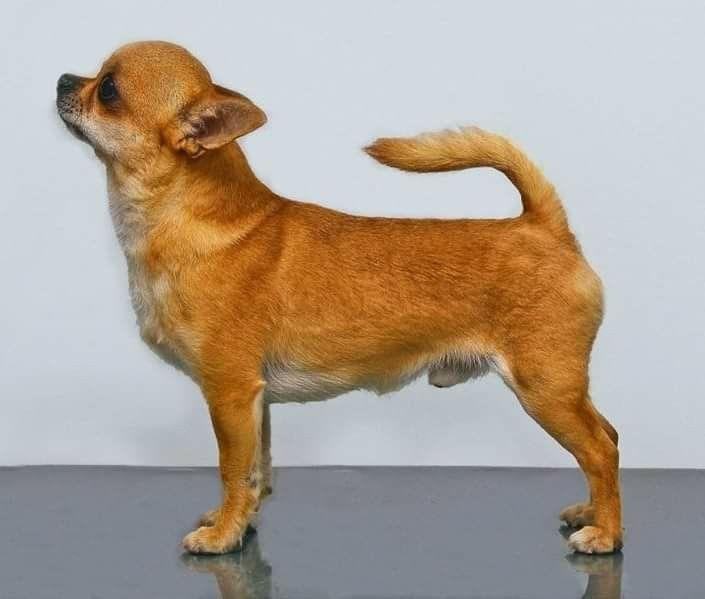adult_dog: (51, 34, 629, 559)
